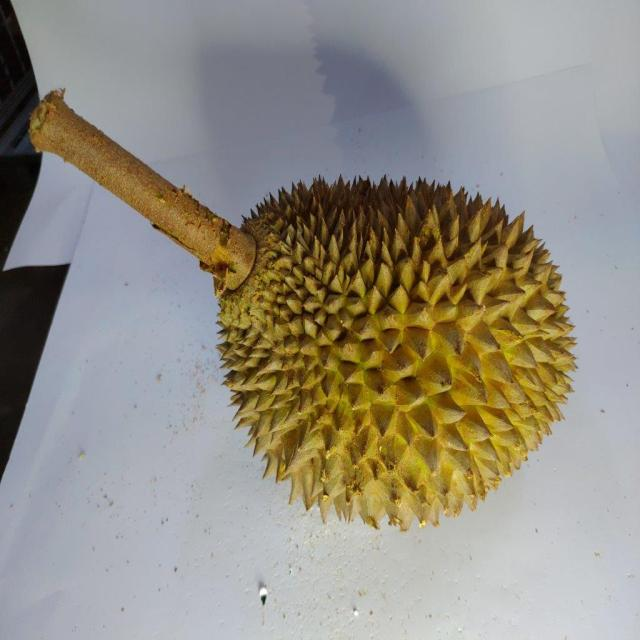mature: (210, 172, 582, 534)
